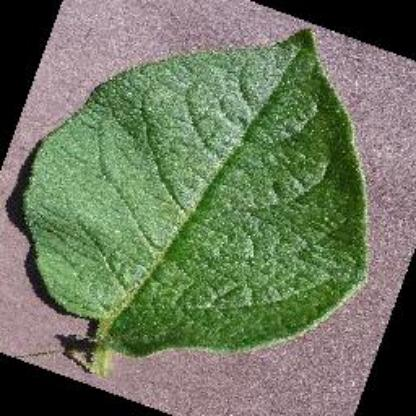Healthy-plant: (20, 26, 370, 372)
